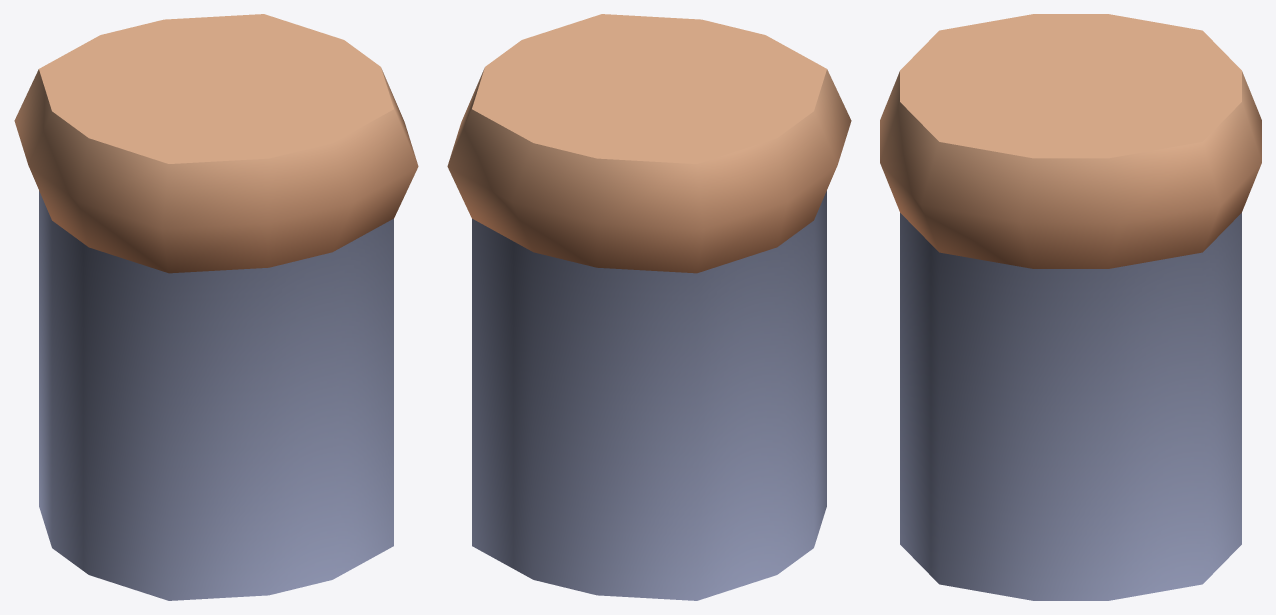
Rendered from block-grass-narrow.glb.
3 renders of one model, left to right at view 1: azimuth 30°, elevation 25°; view 2: azimuth 150°, elevation 25°; view 3: azimuth 270°, elevation 25°, orthographic.
Visible parts, largest first — view 1: block-grass-narrow; view 2: block-grass-narrow; view 3: block-grass-narrow.
Part boxes in pixels (x1,y1,x2,y2): block-grass-narrow: [14, 14, 418, 600]; block-grass-narrow: [447, 14, 851, 600]; block-grass-narrow: [880, 14, 1261, 600].
Size of the model in its own units: 0.7821 by 1 by 0.7821.
